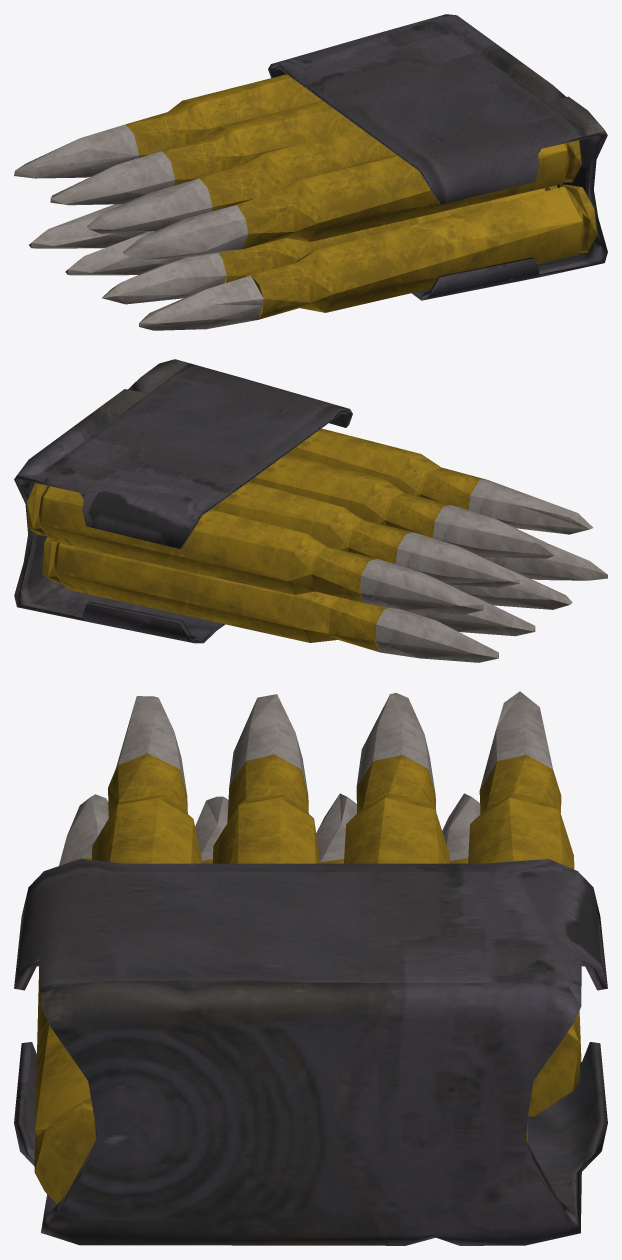
File: Mag3006Enbloc.fbx
3 renders of one model, top to bottom at view 1: azimuth 30°, elevation 25°; view 2: azimuth 150°, elevation 25°; view 3: azimuth 270°, elevation 25°, orthographic. The views are drawn at different scales.
Visible parts, largest first — view 1: BlocClip; view 2: BlocClip; view 3: BlocClip.
Part boxes in pixels (bbox=[...]): BlocClip: bbox=[14, 14, 607, 330]; BlocClip: bbox=[14, 359, 607, 662]; BlocClip: bbox=[14, 691, 607, 1245].
Bounding box in the file's own units: 0.054 × 0.0169 × 0.0358.
